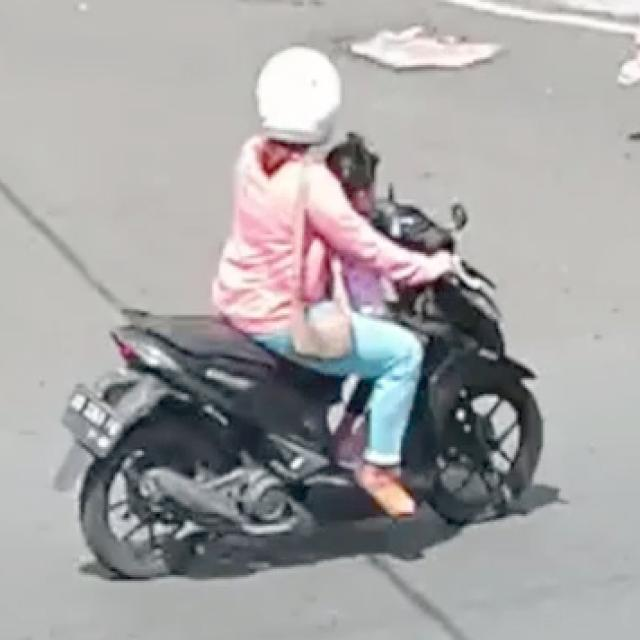helm: (237, 37, 354, 156)
motor: (75, 37, 549, 581)
spion: (434, 190, 483, 244)
